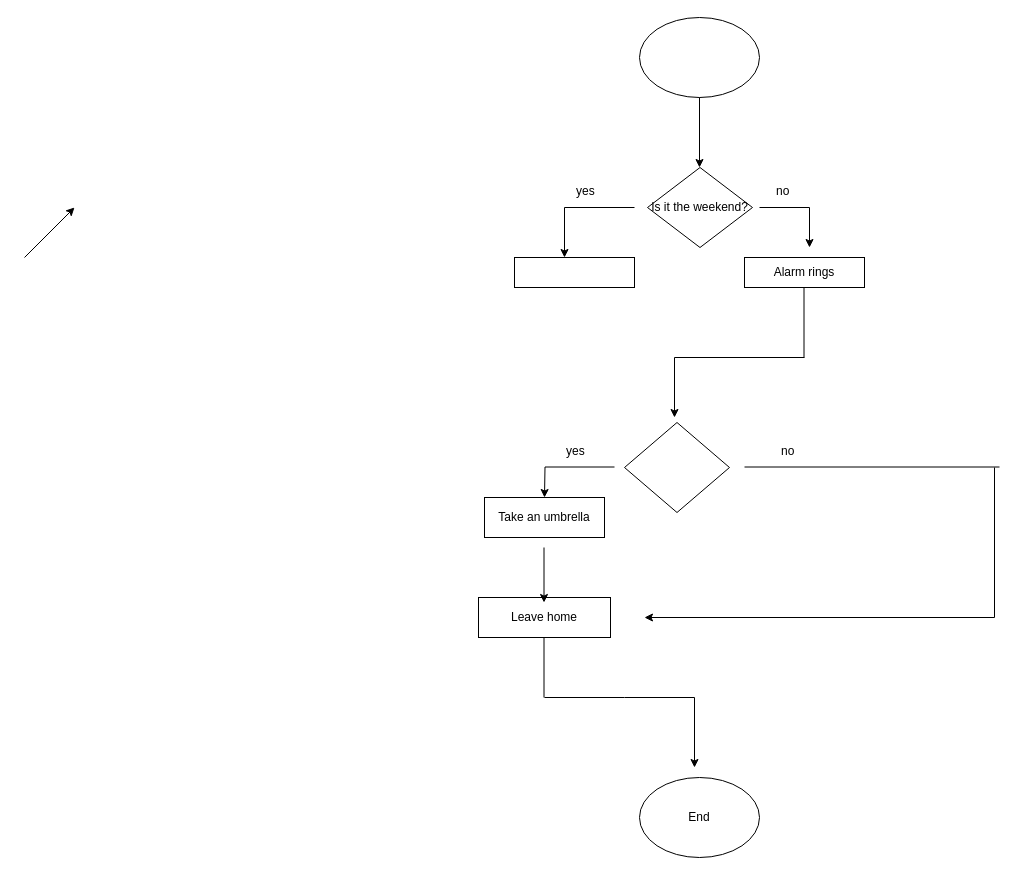
The diagram is 1020 pixels wide and 875 high, and some of its shapes have lost their labels. The centre of each missing label's shape, as x and y in pixels:
"It is raining?" goes at pixel 677 467.
"Sleep in" goes at pixel 574 272.
"Start" goes at pixel 699 57.
